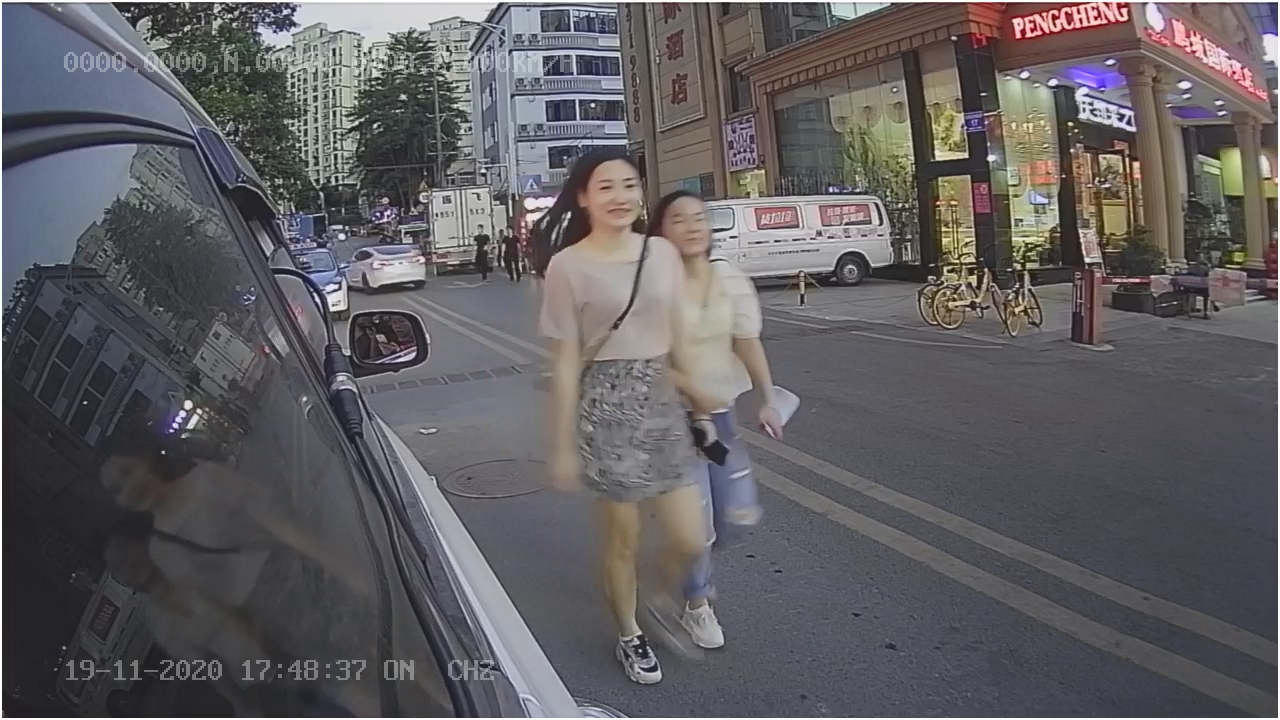person: (529, 145, 715, 614)
